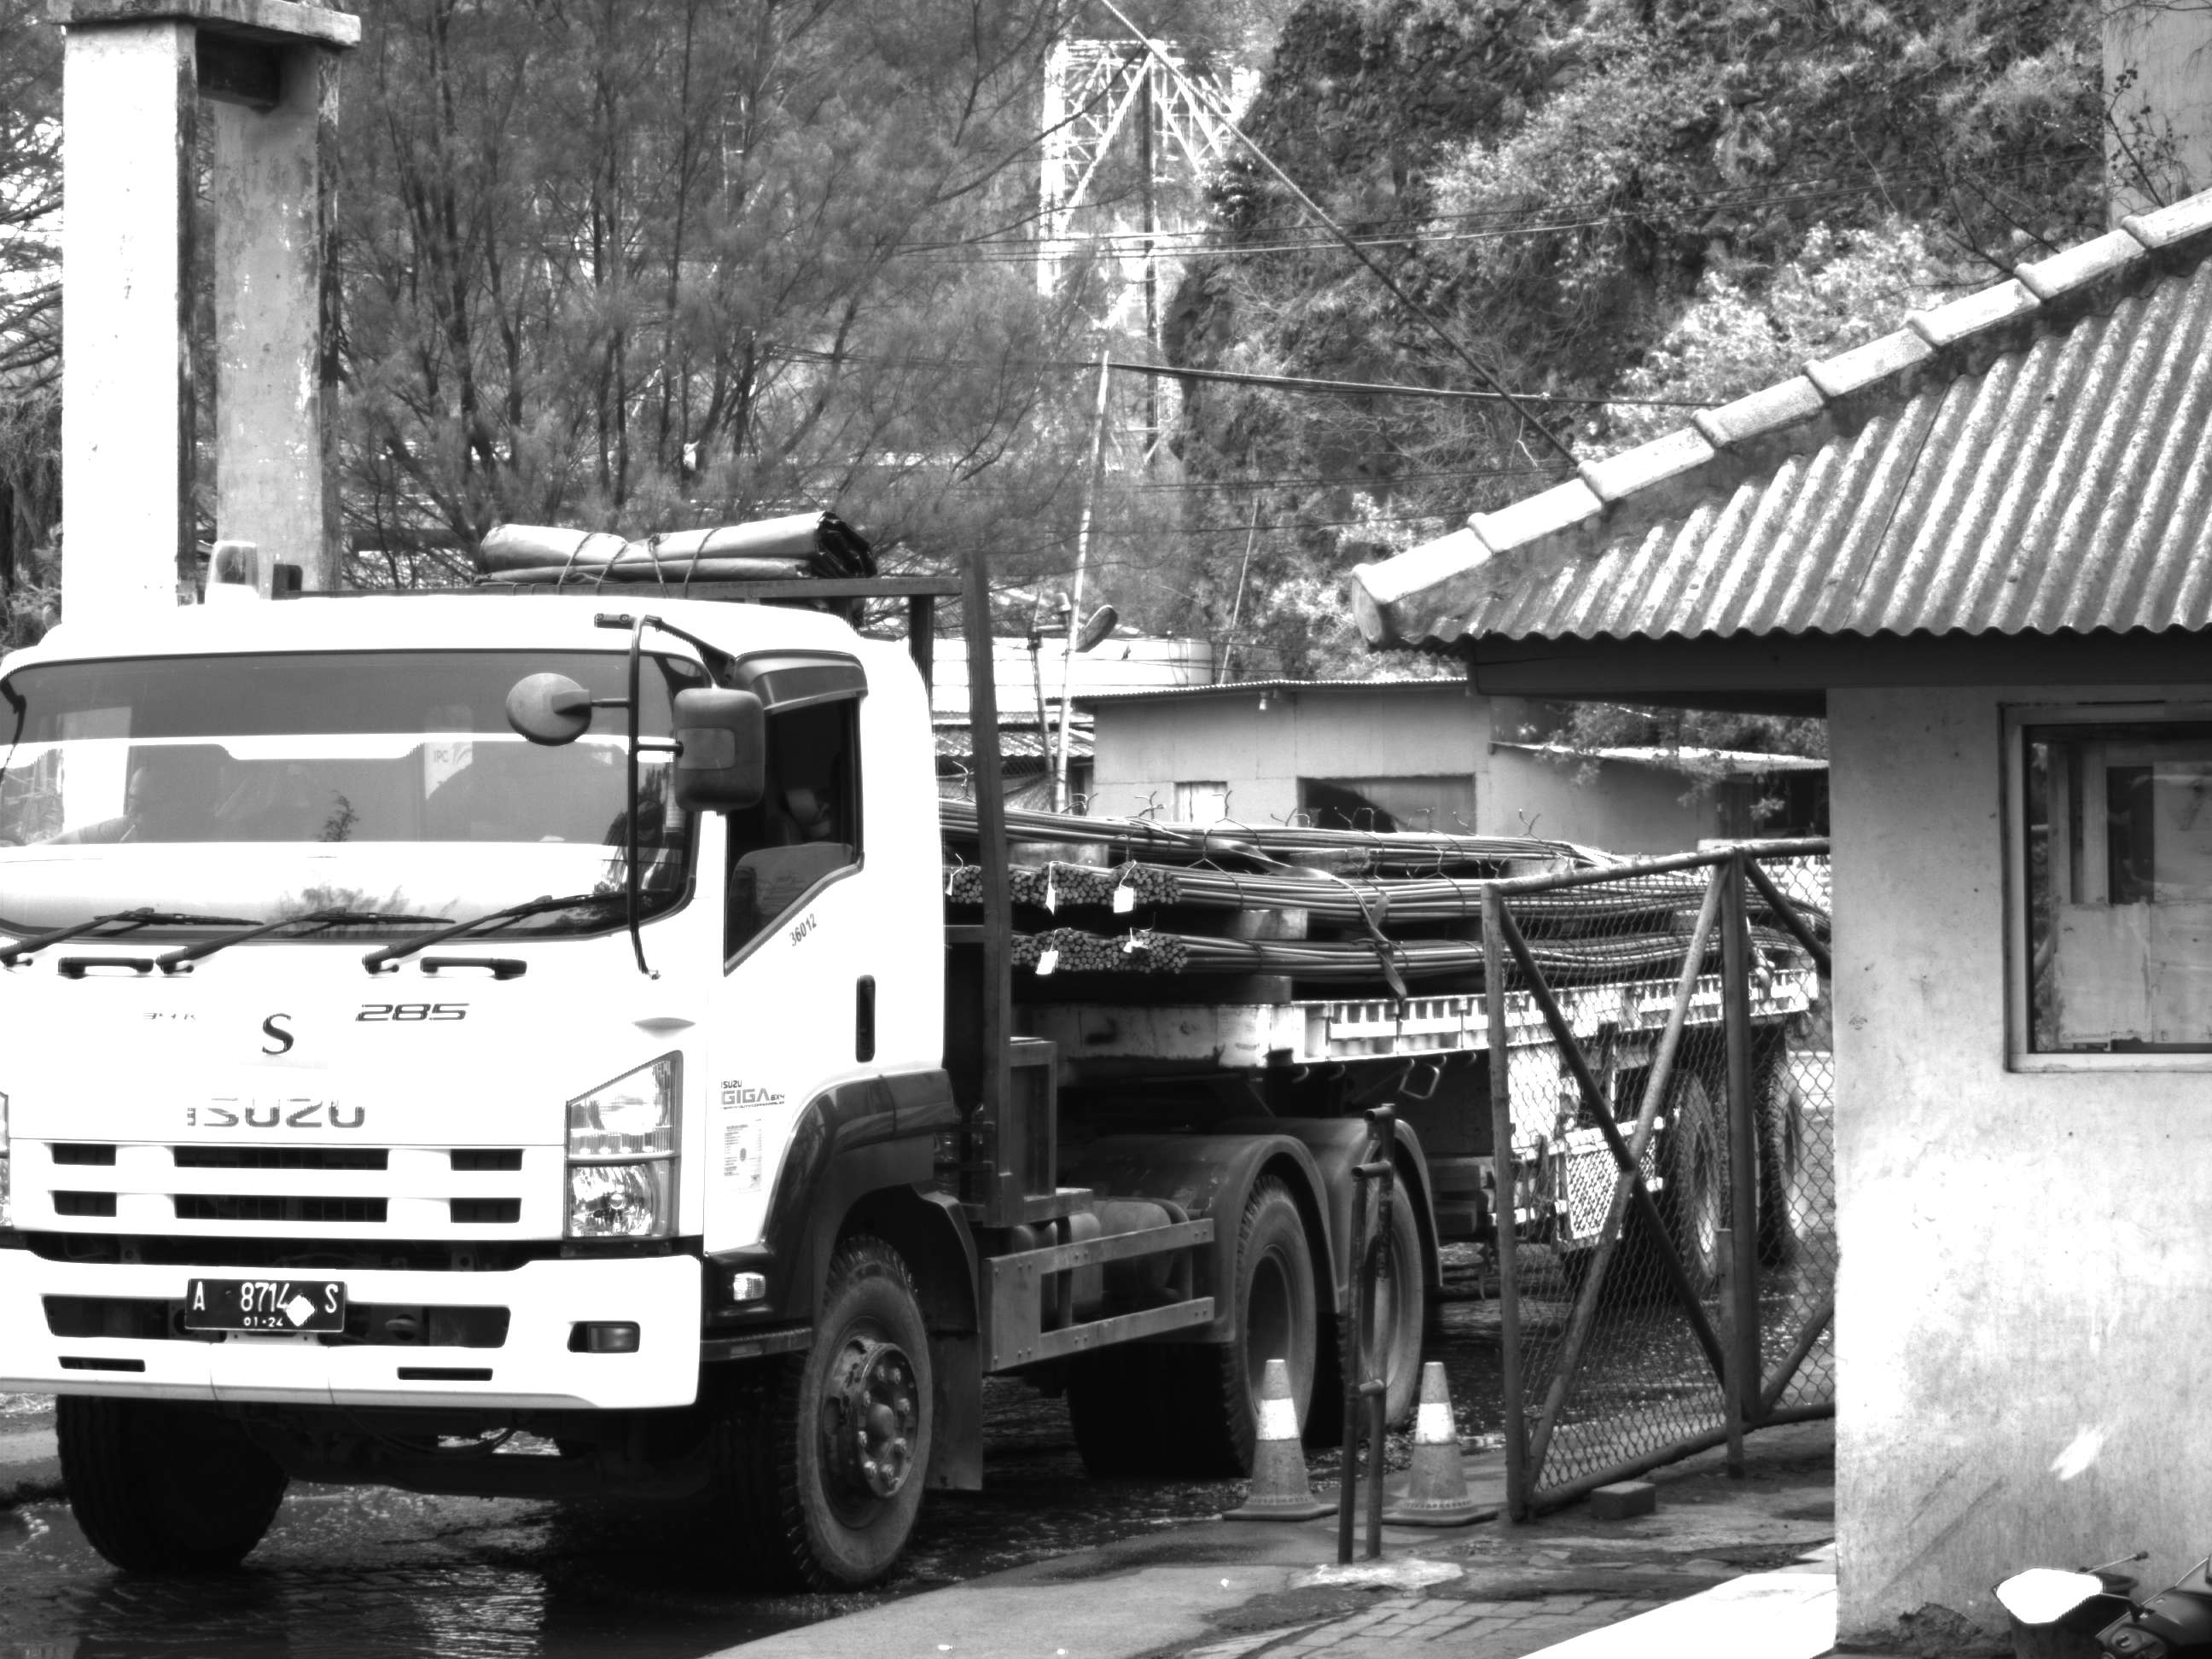day_truck_front: (2, 542, 1019, 1604)
plate: (180, 1273, 356, 1342)
